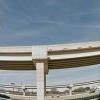Bridge: (3, 36, 94, 84)
